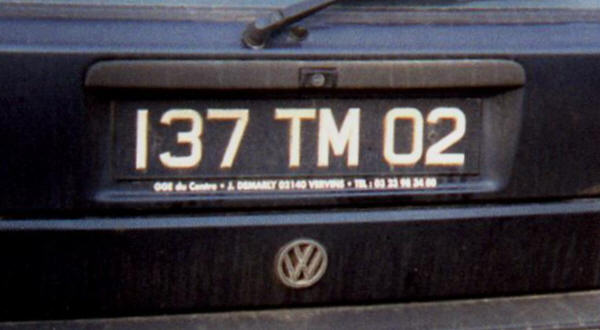license_plate: (108, 92, 484, 182)
